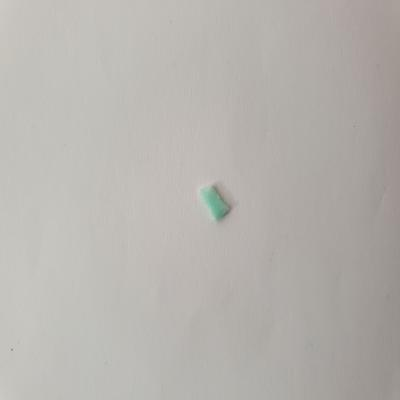plastic: (198, 181, 235, 223)
